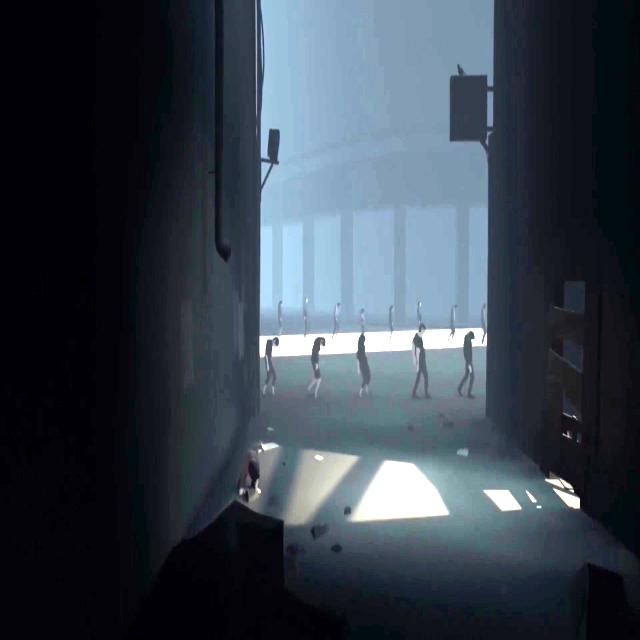boy: (236, 444, 265, 504)
zombie: (456, 330, 476, 398), (412, 320, 428, 398), (306, 336, 326, 397), (263, 337, 279, 396), (357, 332, 370, 396), (448, 303, 456, 342), (332, 302, 340, 338), (302, 297, 309, 336), (481, 302, 487, 344), (389, 305, 395, 341), (277, 298, 282, 334), (360, 308, 366, 332), (417, 301, 421, 319)
